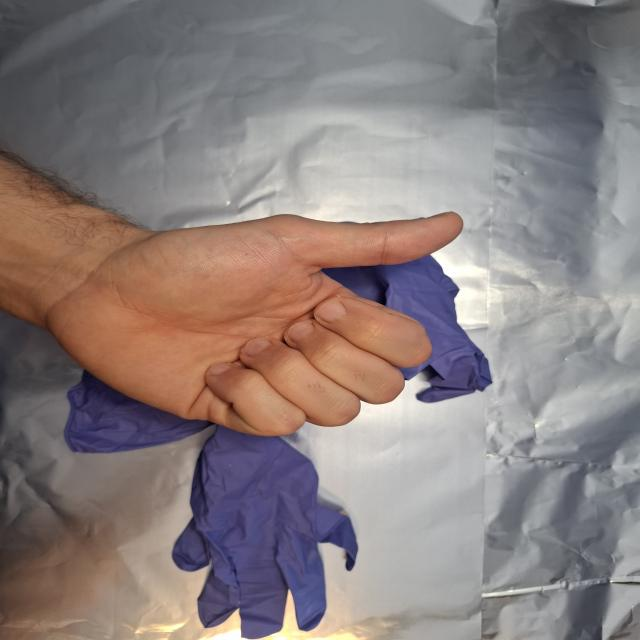glove_off: (38, 209, 467, 439)
